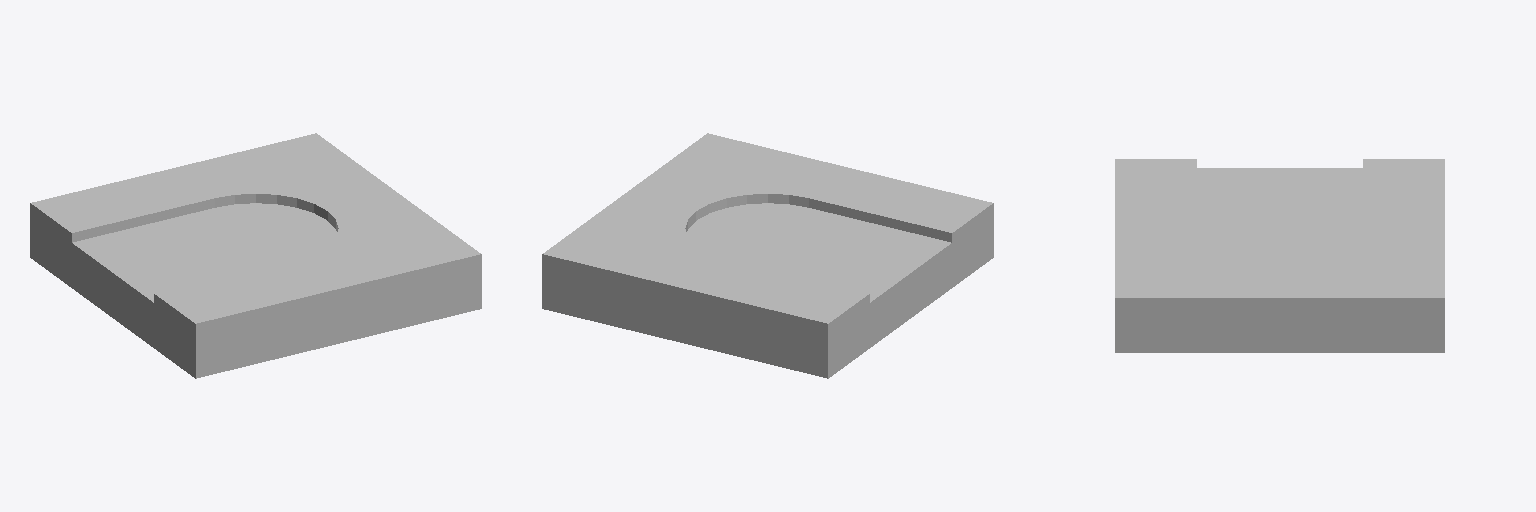
The model's file is tile152.obj.
The picture shows the model from 3 angles: view 1: azimuth 30°, elevation 25°; view 2: azimuth 150°, elevation 25°; view 3: azimuth 270°, elevation 25°; orthographic projection.
Visible parts, largest first — view 1: tile152; view 2: tile152; view 3: tile152.
Boxes of the visible parts, x1,y1,x2,y2 form: tile152: [30, 133, 481, 378]; tile152: [542, 133, 993, 378]; tile152: [1115, 159, 1444, 352].
Size of the model in its own units: 1 by 0.1833 by 1.